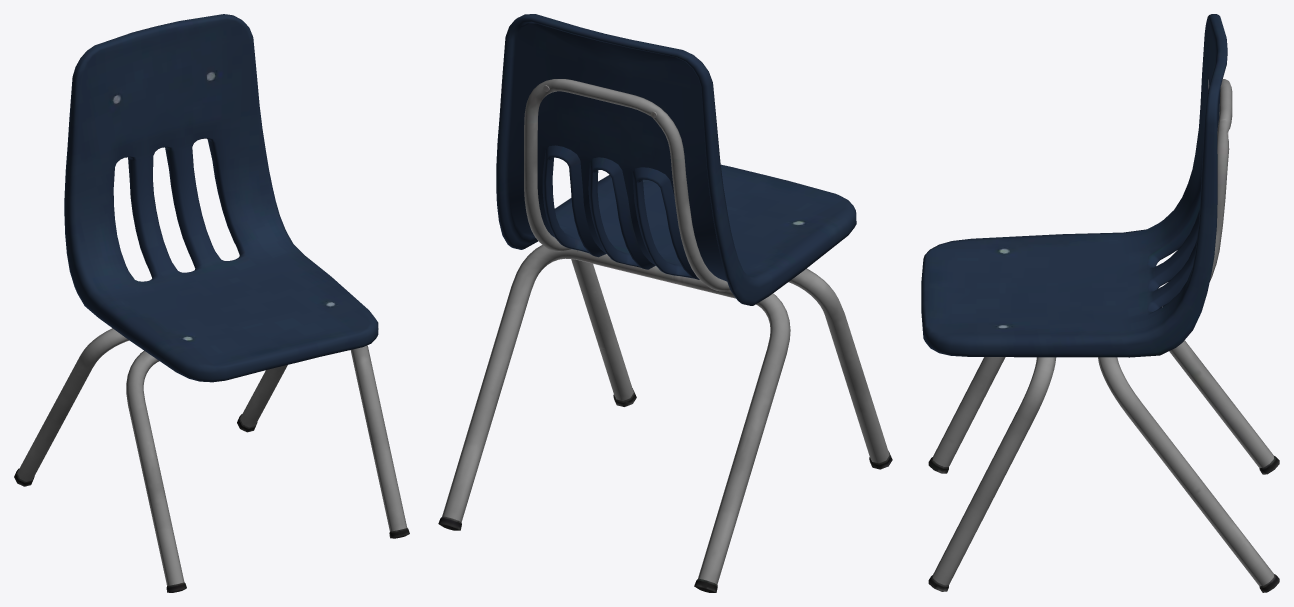
The model's file is SchoolChair_01.glb.
3 renders of one model, left to right at view 1: azimuth 30°, elevation 25°; view 2: azimuth 150°, elevation 25°; view 3: azimuth 270°, elevation 25°, orthographic. The views are drawn at different scales.
Parts seen in each view (by area): view 1: SchoolChair_01; view 2: SchoolChair_01; view 3: SchoolChair_01.
Boxes of the visible parts, box(x1,y1,x2,y2) form: SchoolChair_01: box(14, 14, 409, 592); SchoolChair_01: box(438, 14, 892, 592); SchoolChair_01: box(921, 14, 1279, 592).
Bounding box in the file's own units: 0.5659 × 1.01 × 0.6753.
Materials: 1 (1 with a texture image).
